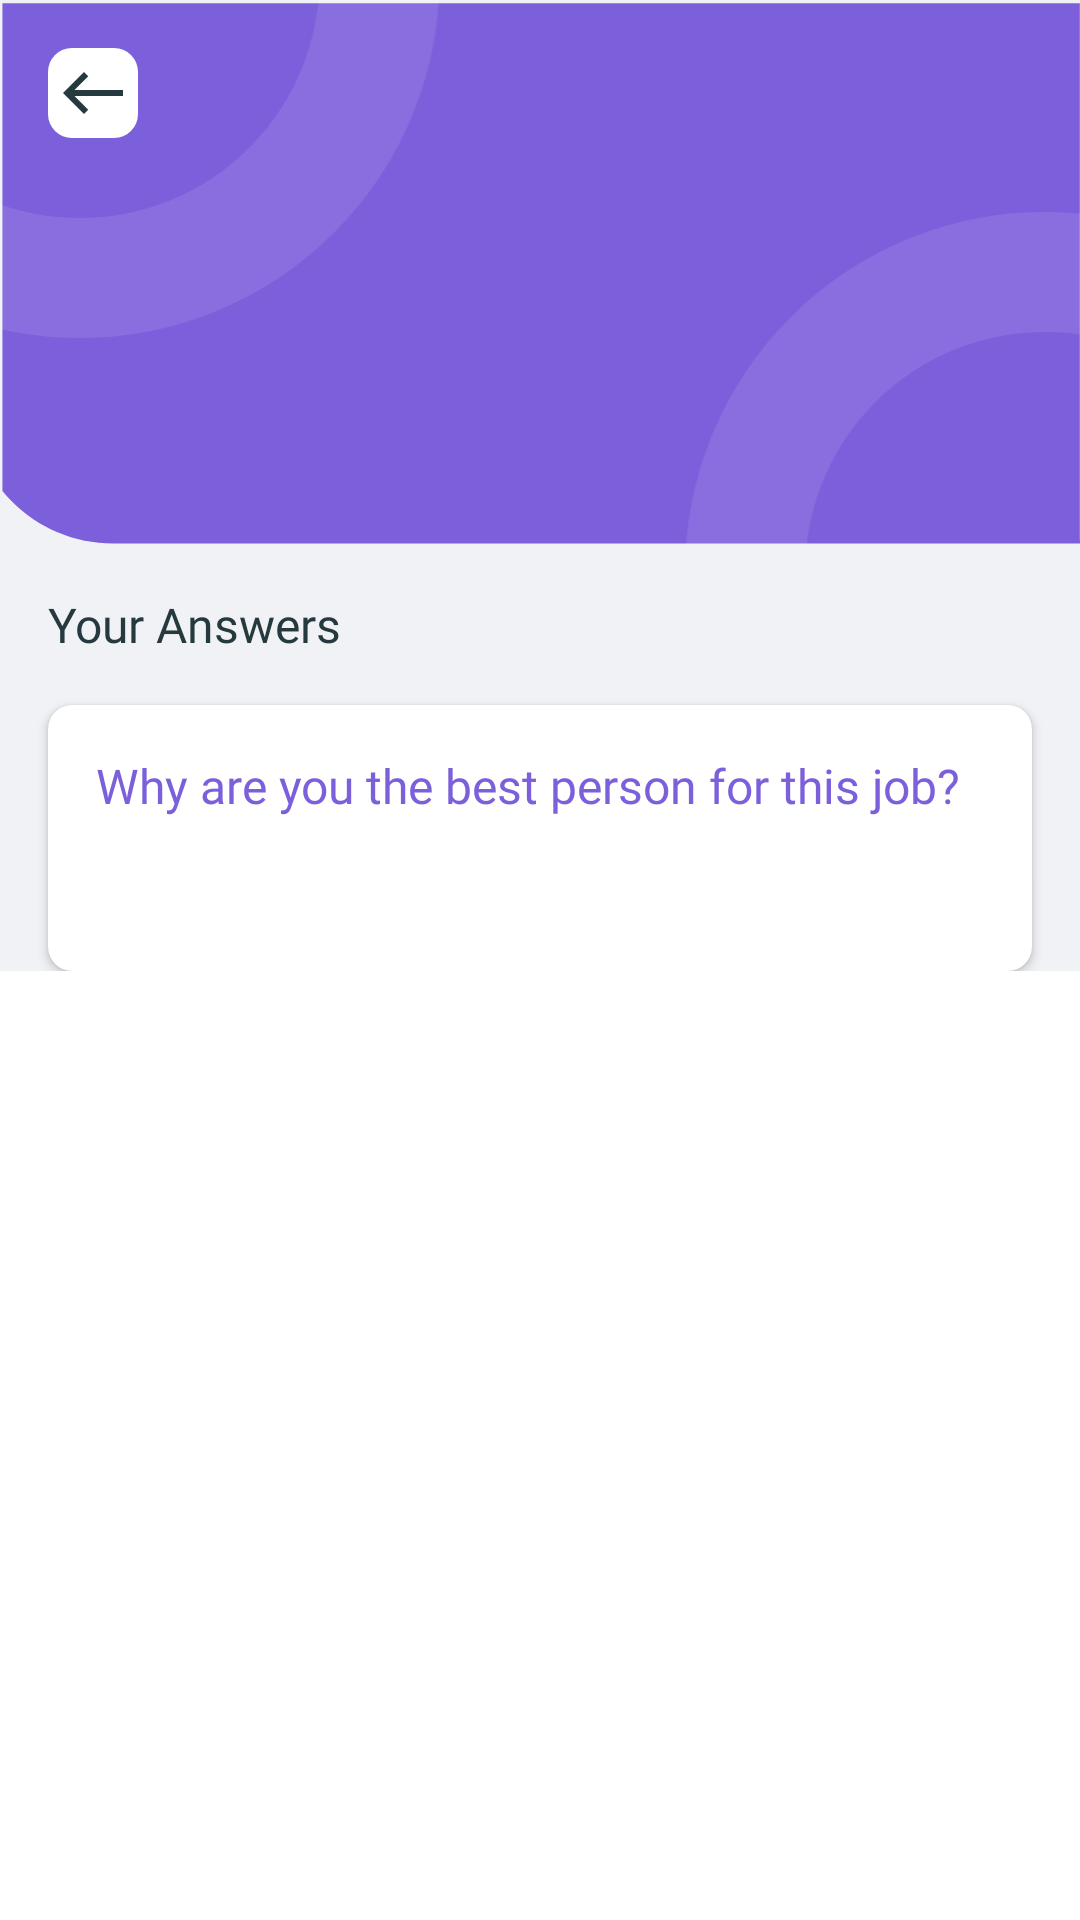

Screen size 1080px×1920px. Icon name, then its center in pixels as (x,y):
arrow left: (93,93)
